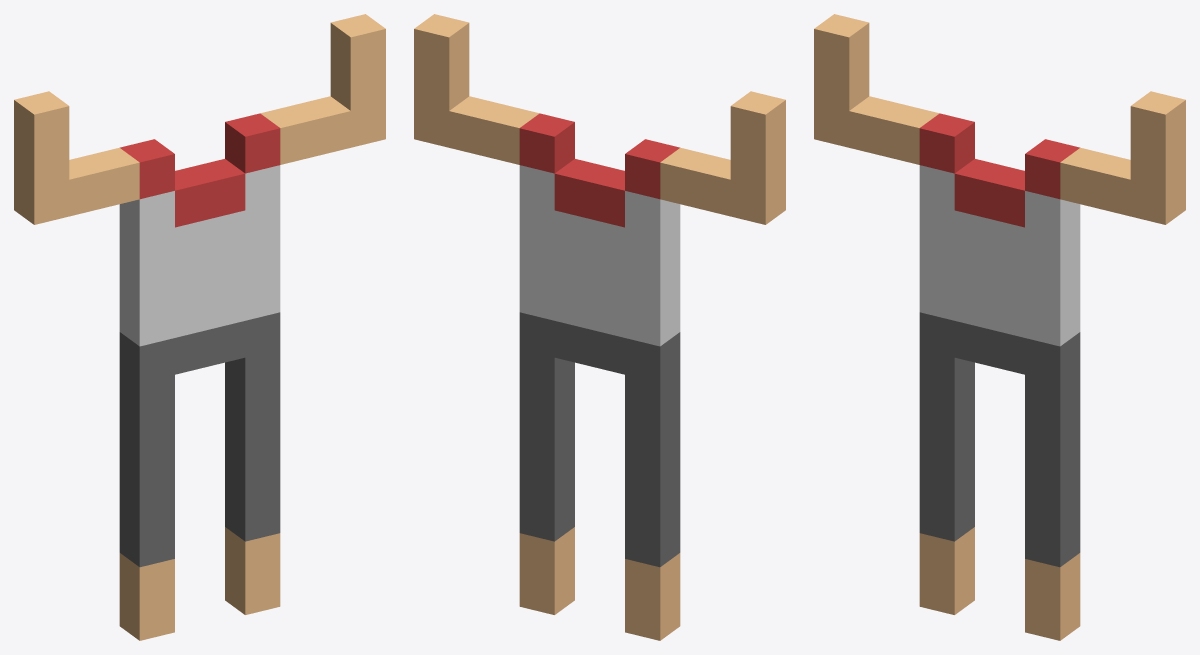
The model's file is Zombie-Death.obj.
The picture shows the model from 3 angles, left to right: view 1: azimuth 30°, elevation 25°; view 2: azimuth 150°, elevation 25°; view 3: azimuth 330°, elevation 25°; orthographic projection.
Bounding box in the file's own units: 1 × 1.5 × 0.1.
1 material, 1 textured.
